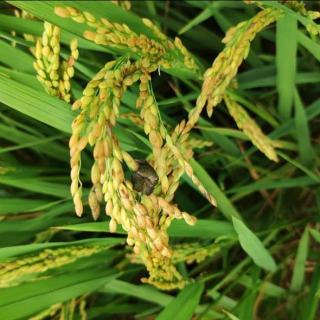Gosong-Palsu: (128, 158, 158, 196)
